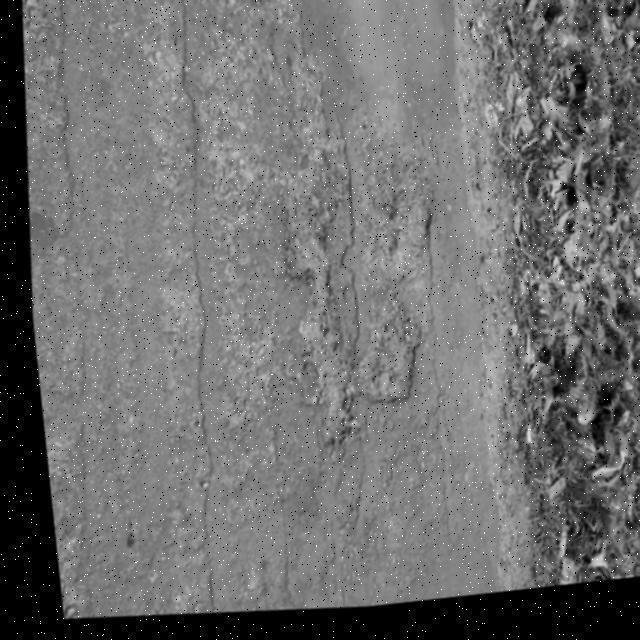pothole: (252, 154, 454, 468)
